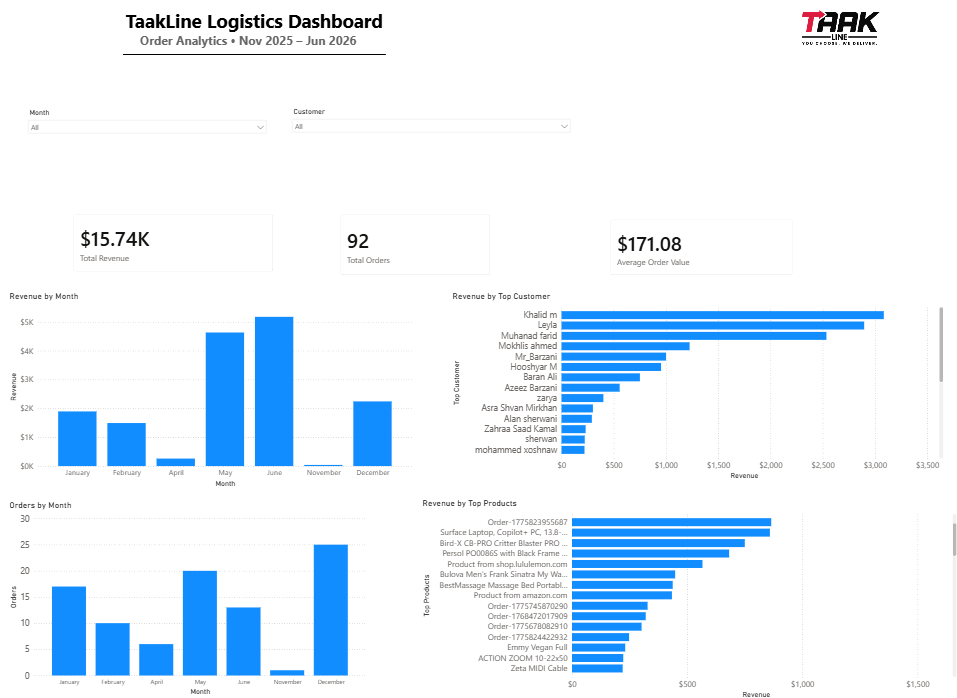

What the dashboard file says about the page in this screenshot:
{"tool":"powerbi","page":{"name":"Page 1","canvas":[1920,1400],"ordinal":0},"visuals":[{"type":"cardVisual","fields":{"Data":["Sum(public orders.total_amount)"]},"box":[131.7,411.7,433.3,148.3],"z":1000},{"type":"cardVisual","fields":{"Data":["Count(public orders.order_number)"]},"box":[665,411.7,333.3,155],"z":2000},{"type":"cardVisual","fields":{"Data":["Avg(public orders.total_amount)"]},"box":[1206.7,421.7,398.3,145],"z":3000},{"type":"clusteredColumnChart","fields":{"Category":["public orders.order_month"],"Y":["Sum(public orders.total_amount)"]},"box":[15.7,581.4,815.7,397.1],"z":4000},{"type":"clusteredBarChart","fields":{"Category":["public orders.customer_name"],"Y":["Sum(public orders.total_amount)"]},"box":[901.7,581.7,991.7,381.7],"z":5000},{"type":"clusteredBarChart","fields":{"Category":["public orders.primary_item"],"Y":["Sum(public orders.total_amount)"]},"box":[841.7,995,1078.3,405],"z":6000},{"type":"clusteredColumnChart","fields":{"Category":["public orders.order_month"],"Y":["Count(public orders.order_number)"]},"box":[15,1000,723.3,395],"z":7000},{"type":"slicer","fields":{"Values":["public orders.order_month"]},"box":[47.1,212.9,497.1,111.4],"z":8000},{"type":"slicer","fields":{"Values":["public orders.customer_name"]},"box":[575.7,210,577.1,115.7],"z":9000},{"type":"image","box":[1448.6,0,471.4,110],"z":11000},{"type":"textbox","box":[248.6,10,652.9,100],"z":12000},{"type":"shape","box":[248.6,34.3,525.7,150],"z":12001}]}

Visuals, with their boxes in screenshot pixels (x1, y1, x2, y2), scaled from the page's 1920x1400 canvas onto the 957x698 screenshot:
cardVisual - Sum(public orders.total_amount): (66,205,282,279)
cardVisual - Count(public orders.order_number): (331,205,498,283)
cardVisual - Avg(public orders.total_amount): (601,210,800,283)
clusteredColumnChart - public orders.order_month x Sum(public orders.total_amount): (8,290,414,488)
clusteredBarChart - public orders.customer_name x Sum(public orders.total_amount): (449,290,944,480)
clusteredBarChart - public orders.primary_item x Sum(public orders.total_amount): (420,496,956,697)
clusteredColumnChart - public orders.order_month x Count(public orders.order_number): (7,499,368,696)
slicer - public orders.order_month: (23,106,271,162)
slicer - public orders.customer_name: (287,105,575,162)
image: (722,0,956,55)
textbox: (124,5,449,55)
shape: (124,17,386,92)
